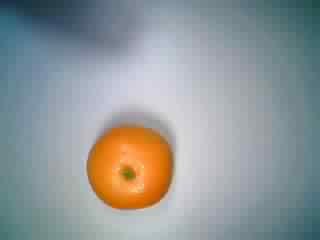orange: (81, 112, 176, 214)
